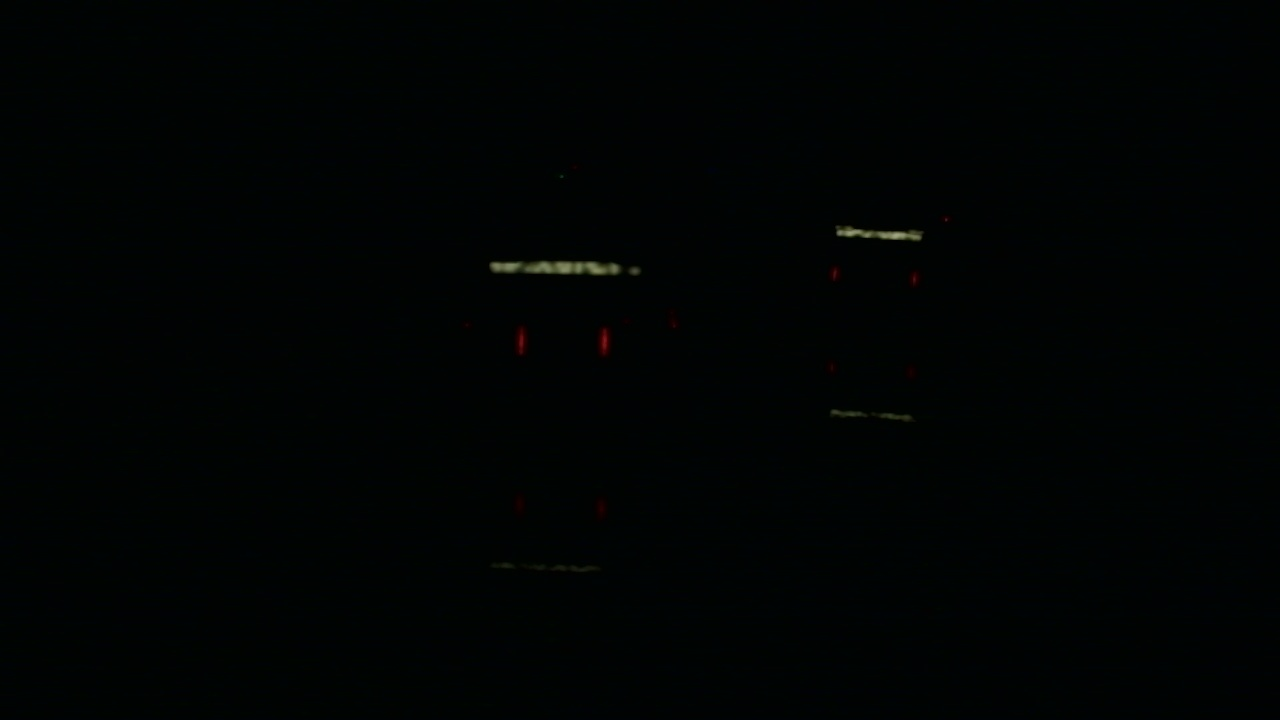lamp: (598, 324, 612, 354), (514, 327, 523, 358), (827, 264, 839, 285), (912, 264, 920, 288)
pair1: (517, 327, 608, 356)
pair2: (829, 264, 922, 288)
